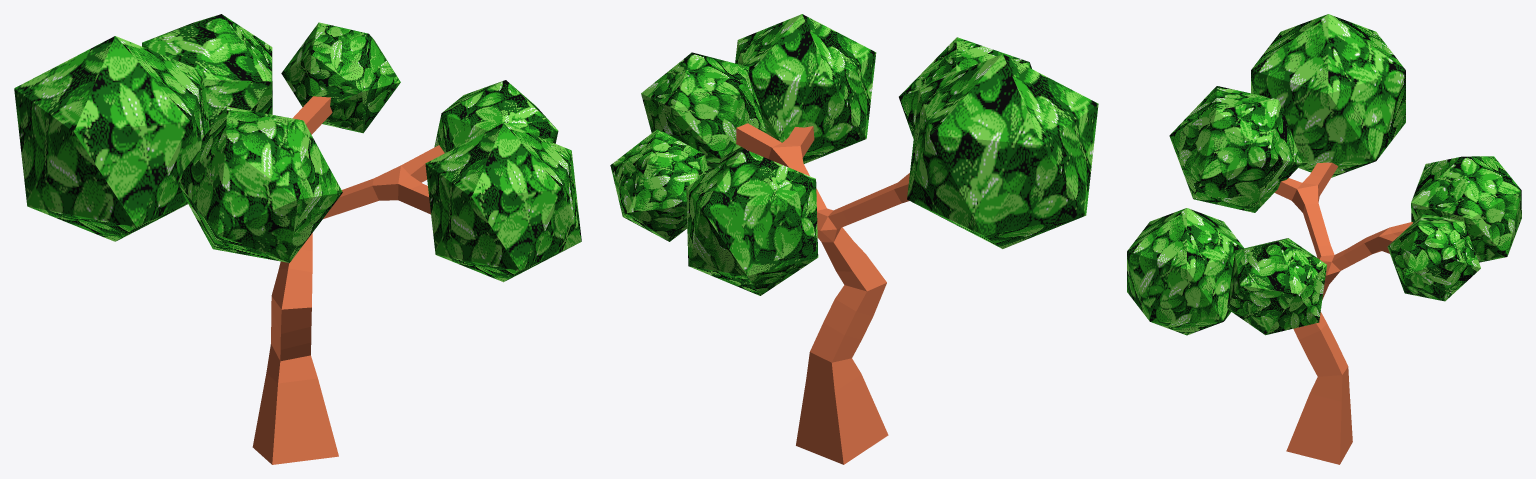
The model's file is tree1.fbx.
3 views of the same model, side by side, from view 1: azimuth 30°, elevation 25°; view 2: azimuth 150°, elevation 25°; view 3: azimuth 270°, elevation 25° (orthographic). The views are drawn at different scales.
Parts seen in each view (by area): view 1: Icosphere.003, Icosphere, Icosphere.002, Cube, Icosphere.005, Icosphere.004, Icosphere.001; view 2: Icosphere.003, Cube, Icosphere.004, Icosphere, Icosphere.001, Icosphere.005, Icosphere.002; view 3: Icosphere.003, Icosphere.002, Icosphere, Cube, Icosphere.004, Icosphere.001, Icosphere.005.
Part boxes in pixels (bbox=[...]): Icosphere.003: bbox=[14, 36, 209, 241]; Icosphere: bbox=[425, 123, 581, 282]; Icosphere.002: bbox=[179, 106, 342, 262]; Cube: bbox=[252, 96, 444, 464]; Icosphere.005: bbox=[281, 22, 400, 133]; Icosphere.004: bbox=[142, 14, 272, 128]; Icosphere.001: bbox=[434, 80, 558, 152]; Icosphere.003: bbox=[907, 54, 1098, 248]; Cube: bbox=[736, 123, 909, 464]; Icosphere.004: bbox=[686, 149, 818, 295]; Icosphere: bbox=[735, 14, 876, 163]; Icosphere.001: bbox=[641, 52, 766, 171]; Icosphere.005: bbox=[610, 129, 708, 241]; Icosphere.002: bbox=[899, 37, 1031, 138]; Icosphere.003: bbox=[1251, 14, 1405, 177]; Icosphere.002: bbox=[1169, 86, 1302, 212]; Icosphere: bbox=[1127, 208, 1243, 335]; Cube: bbox=[1274, 162, 1412, 464]; Icosphere.004: bbox=[1411, 156, 1521, 262]; Icosphere.001: bbox=[1227, 238, 1326, 335]; Icosphere.005: bbox=[1387, 213, 1480, 301].
Bounding box in the file's own units: 202 × 181 × 176.
7 materials, 6 textured.
